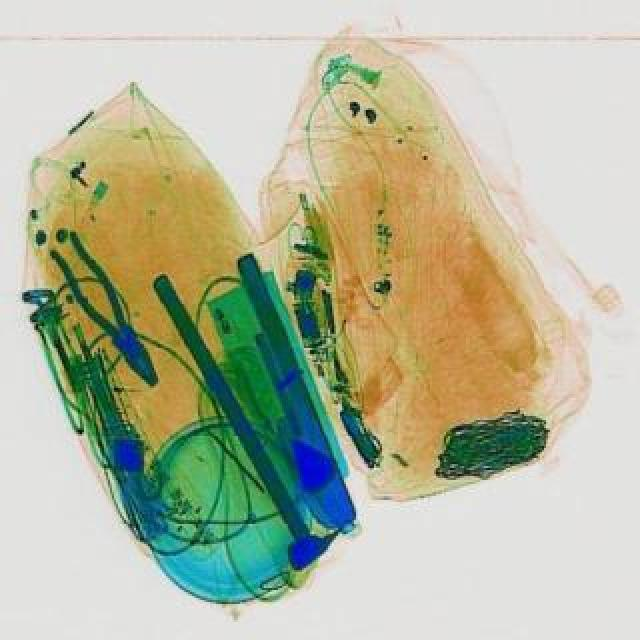wrench: (44, 224, 176, 392)
